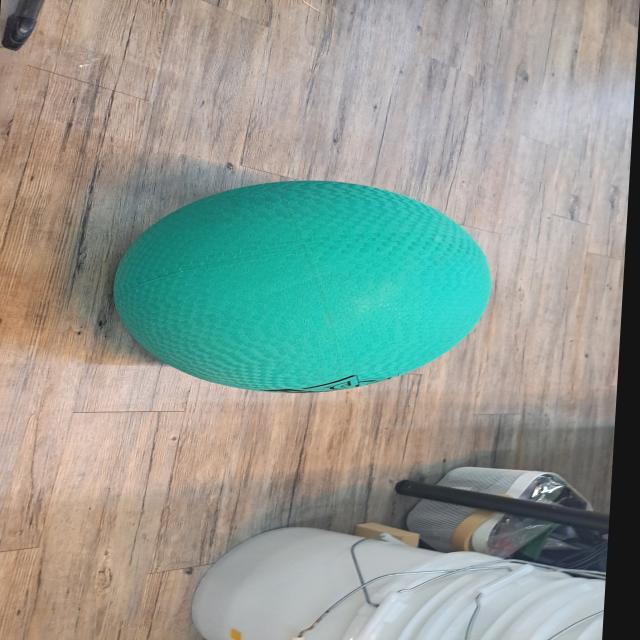ALGAE: (104, 179, 501, 395)
